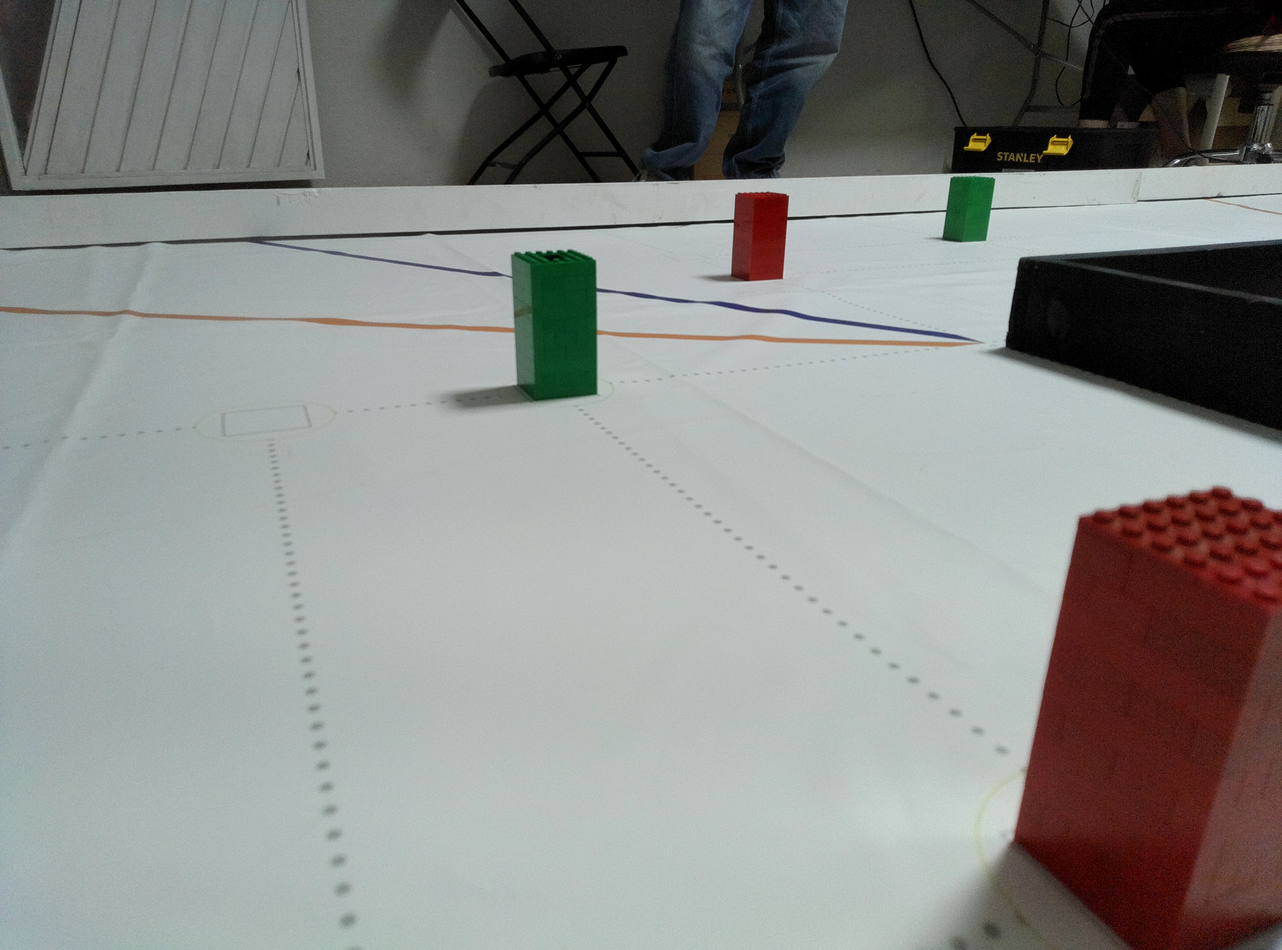greenbox: (507, 248, 602, 403), (942, 176, 996, 243)
redbox: (1002, 479, 1282, 950), (728, 190, 790, 282)
